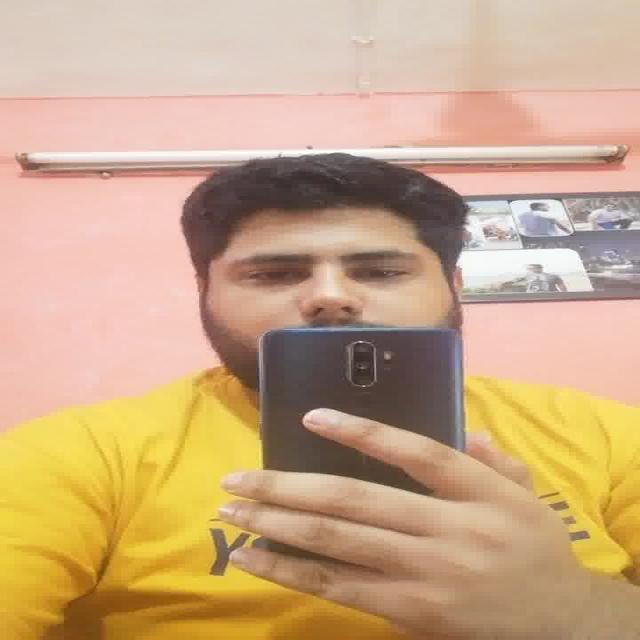Phone: (252, 322, 476, 485)
